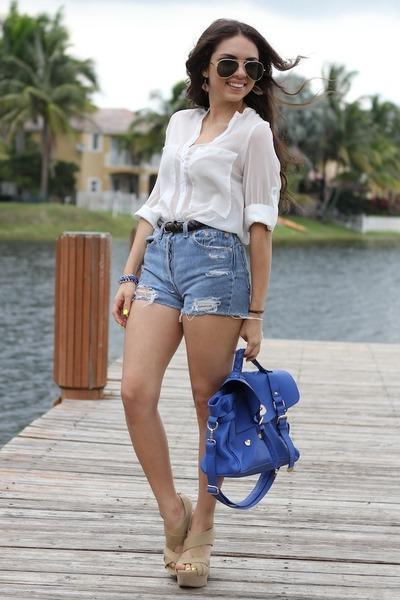Shorts: (125, 221, 259, 318)
short sleeve shirt: (123, 109, 289, 232)
